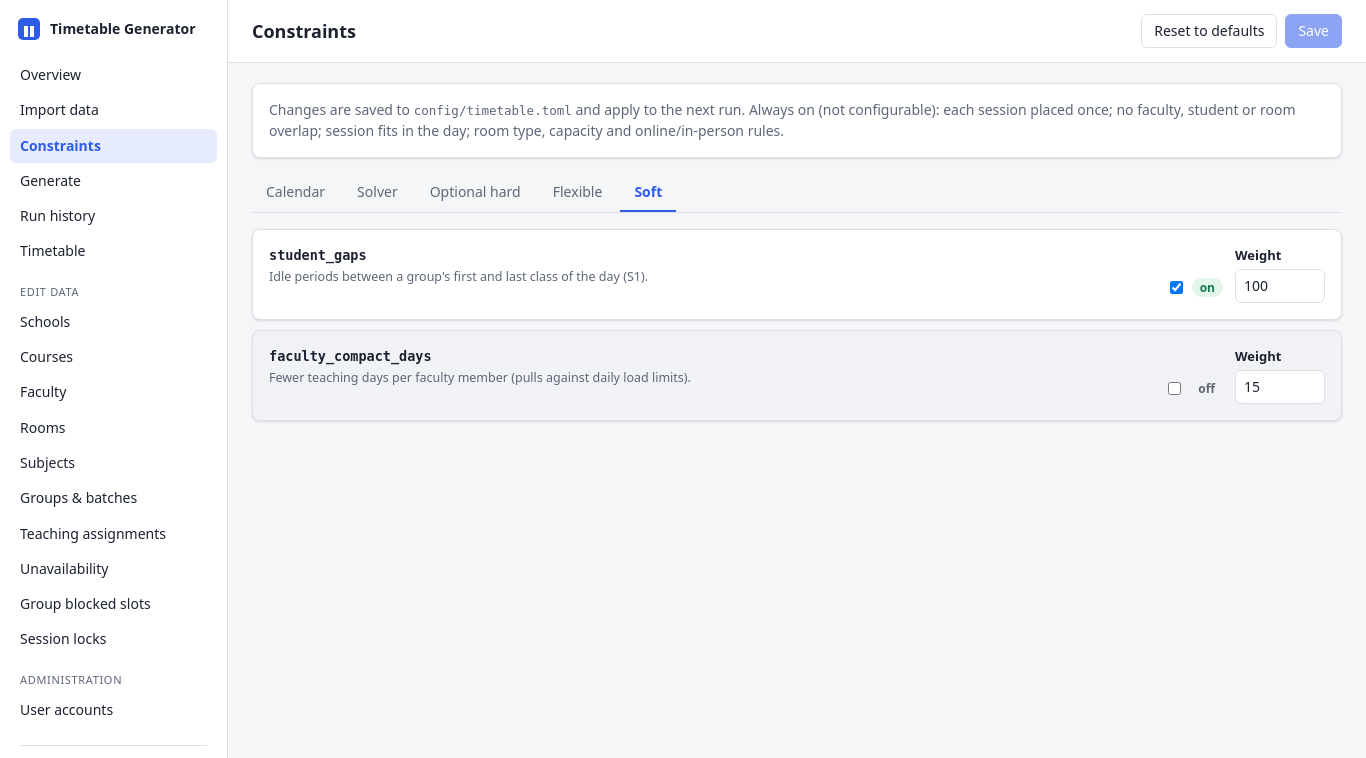
Test case: constraints page › shows validation errors next to the field and on the tab
Replace the text in the 1st number field labelled "Weight" with "-3" at point(1280, 286), box [1235,269,1325,303]
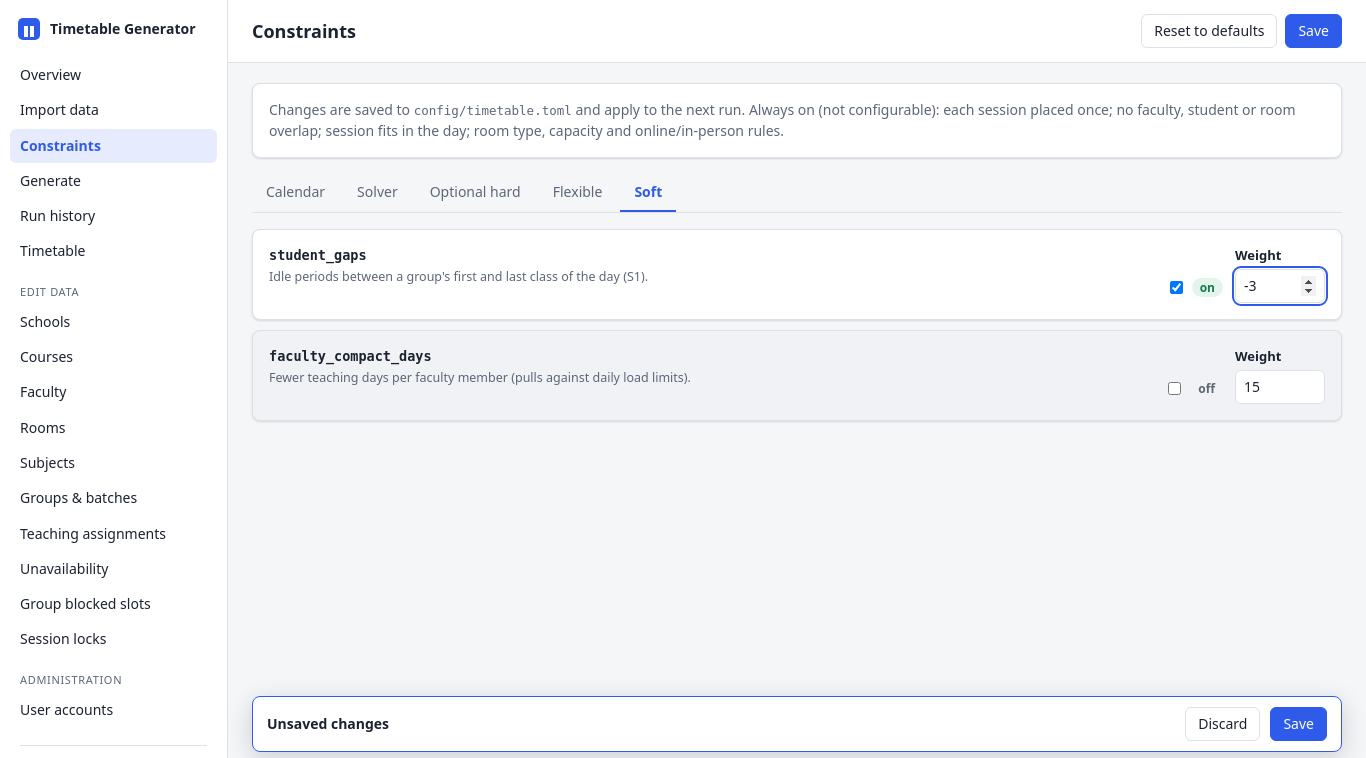
Click the 1st button "Save" at point(1314, 31), box [1285,14,1342,48]
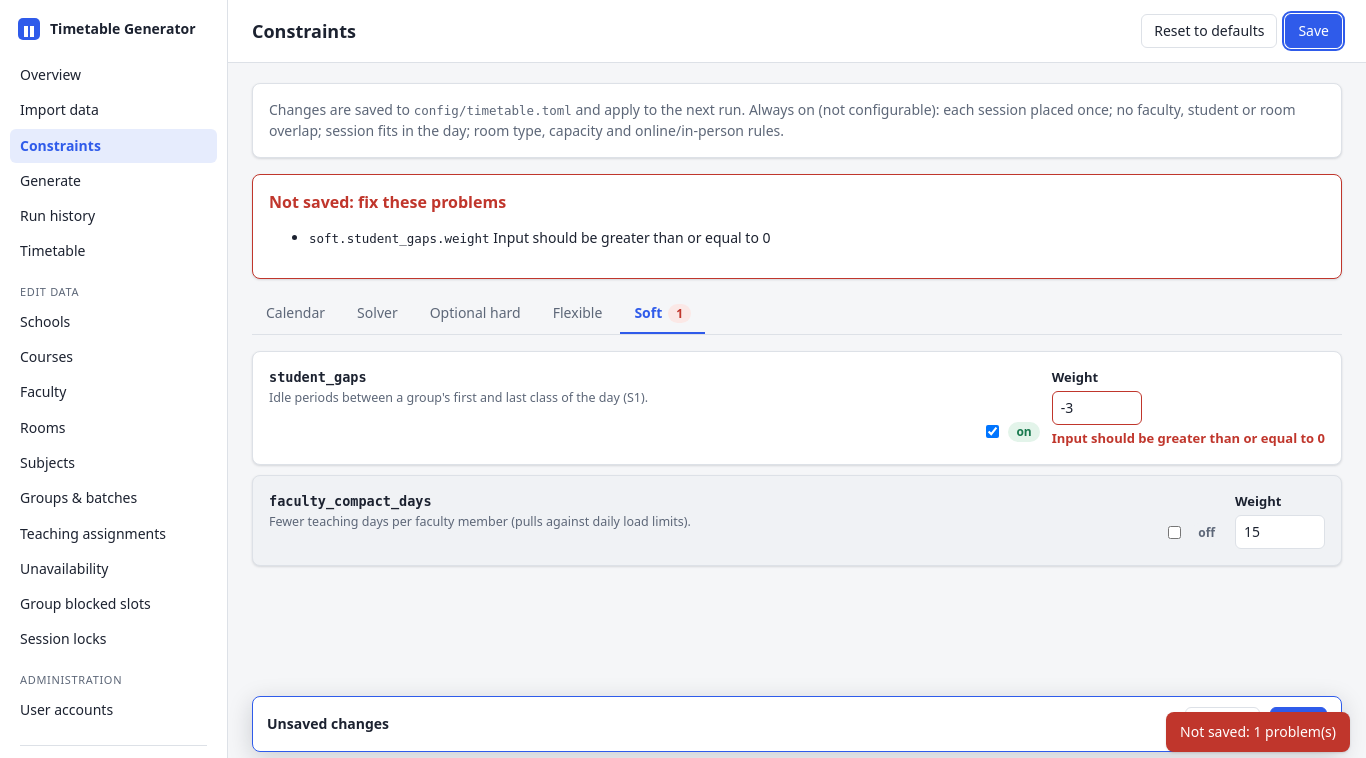
Expected: the heading "Not saved: fix these problems" is shown, [269,191,506,213]
Expected: the text "Input should be greater than or equal to 0" is shown, [1052,429,1325,448]
Expected: the text "1" is shown, [668,304,691,323]
